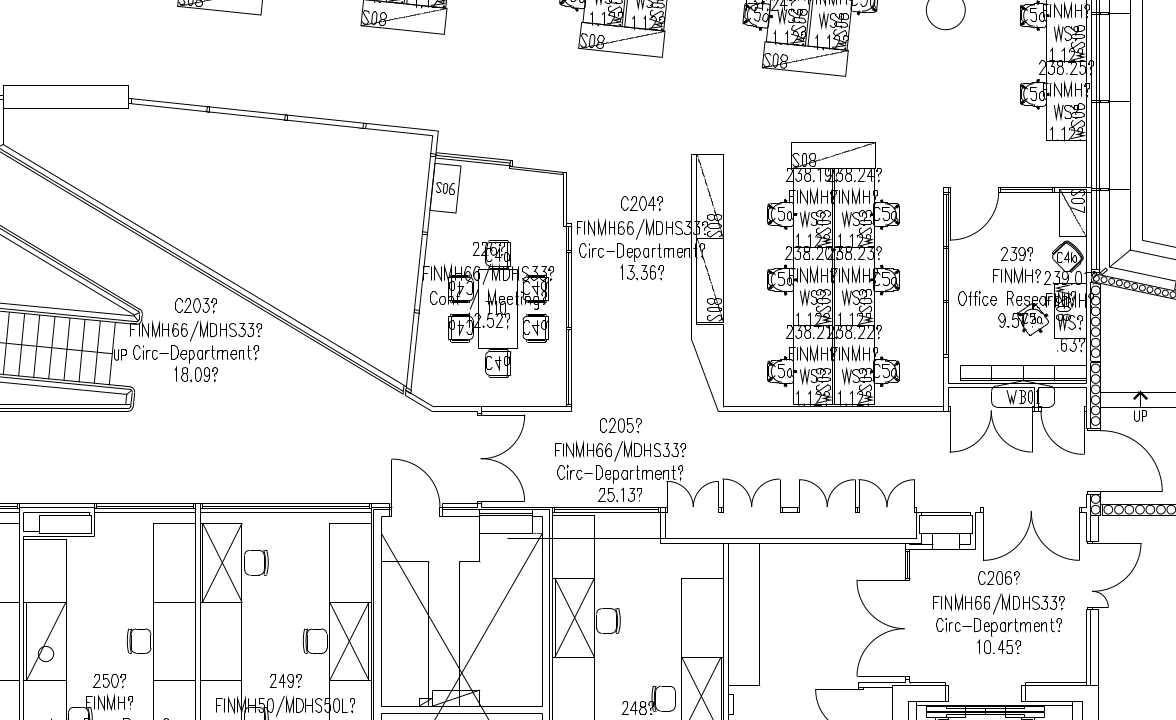door: (831, 572, 909, 679), (1095, 428, 1176, 503), (1081, 537, 1162, 612), (387, 454, 449, 511), (949, 179, 1002, 245), (979, 500, 1032, 563), (1028, 503, 1081, 566), (937, 404, 990, 467), (991, 407, 1040, 466), (1038, 407, 1087, 466), (476, 411, 530, 460), (478, 455, 532, 504), (825, 462, 861, 521), (753, 462, 789, 521), (722, 466, 756, 523), (857, 464, 889, 517), (691, 464, 720, 521), (663, 467, 692, 524), (790, 464, 819, 521), (886, 464, 915, 521)
